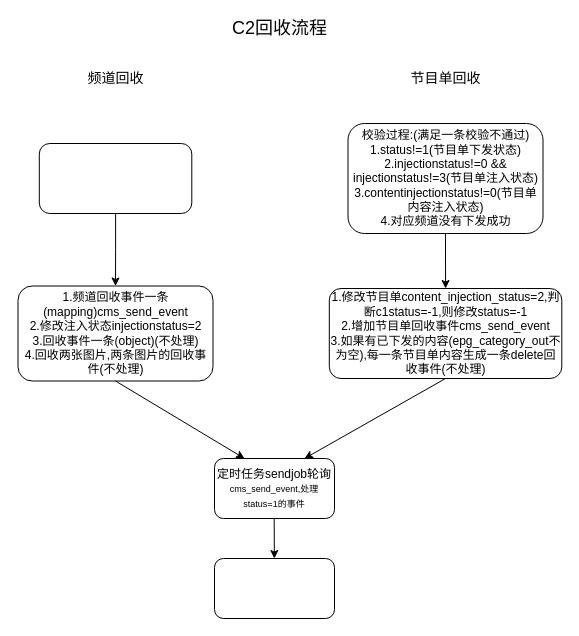
Some shapes in this 579 by 636 pixel diagram are drawn without their labels. Each missing label, with the centre of its shape:
校验过程: 1.频道status!=1 2.频道injectionstatus=2 3.所属节目单status=1 || injectionstatus=2: the point at 115,178
生成cms_send_task,生成请求工单,发送soap消息: the point at 274,588
